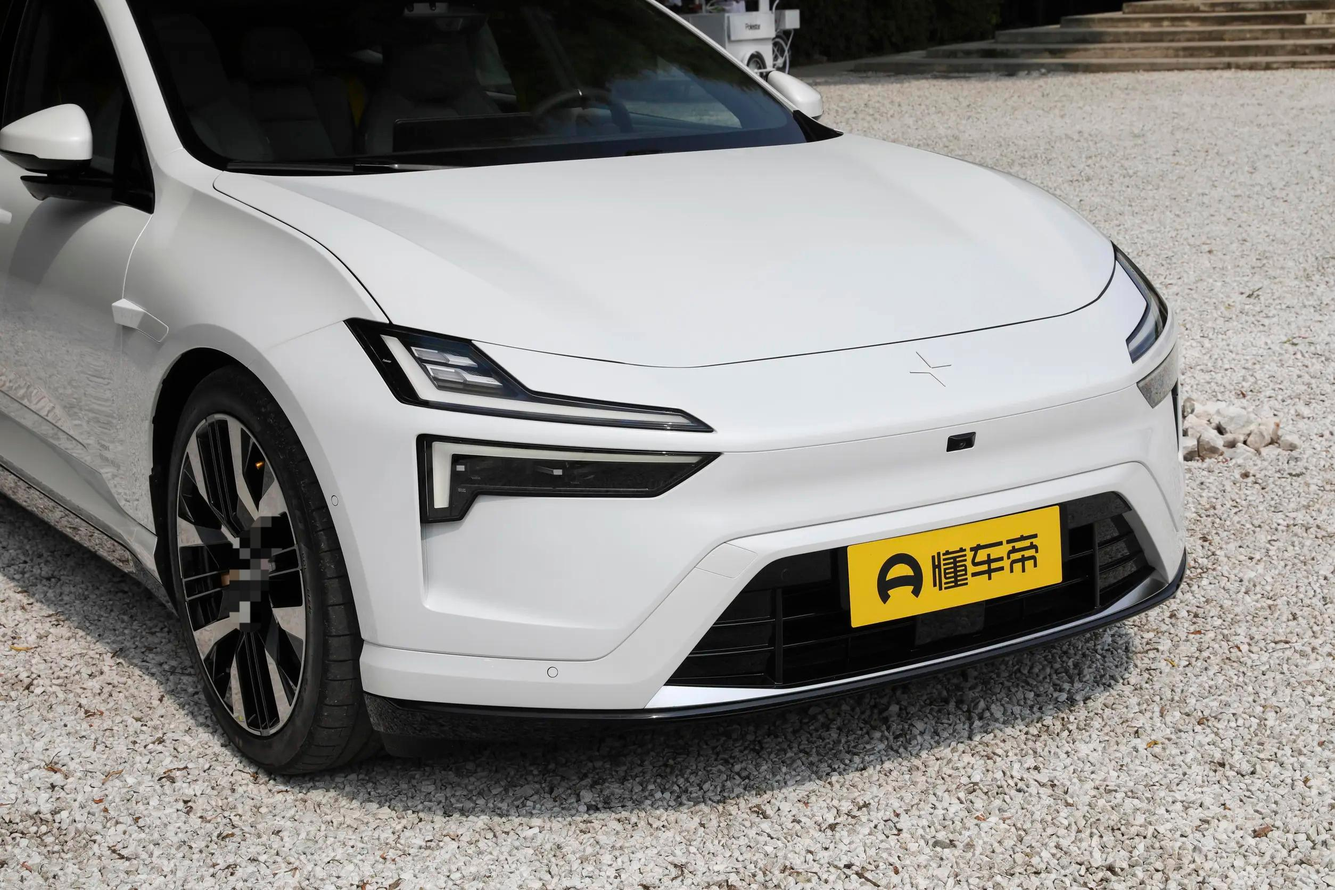Polestar: (910, 351, 951, 387)
